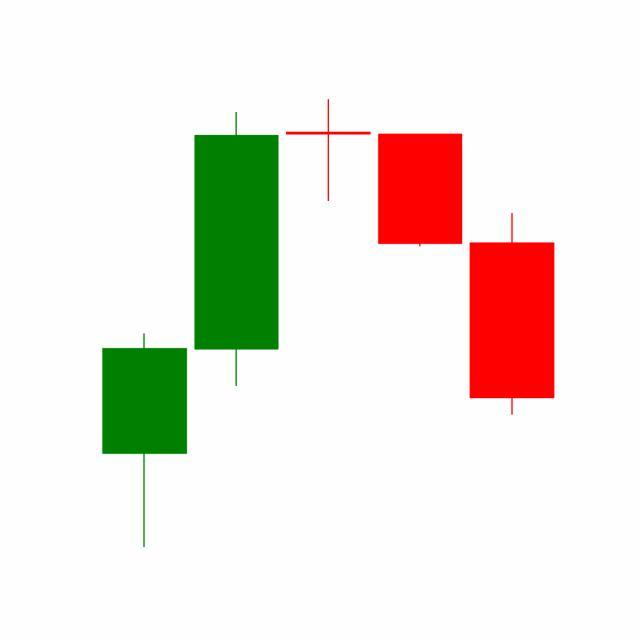Evening Star: (190, 100, 467, 392)
